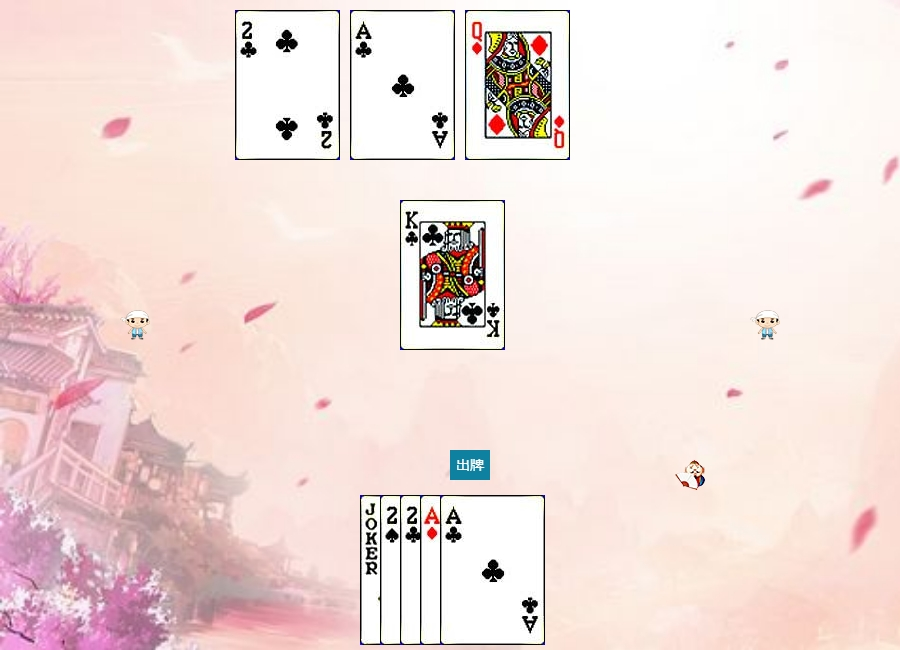12~1: (465, 10, 570, 160)
13~2: (400, 200, 505, 350)
14~1: (420, 495, 525, 645)
14~2: (350, 10, 455, 160), (440, 495, 545, 645)
15~2: (235, 10, 340, 160), (400, 495, 505, 645)
15~4: (380, 495, 485, 645)
17~3: (360, 495, 465, 645)
